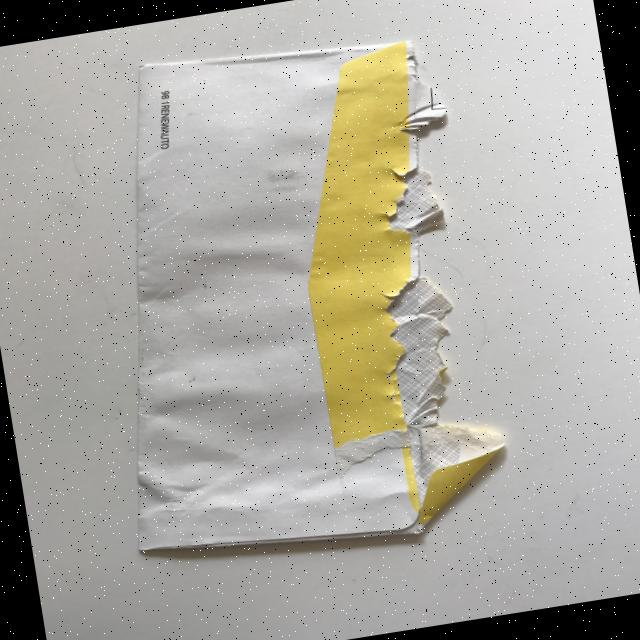paper: (63, 17, 518, 578)
